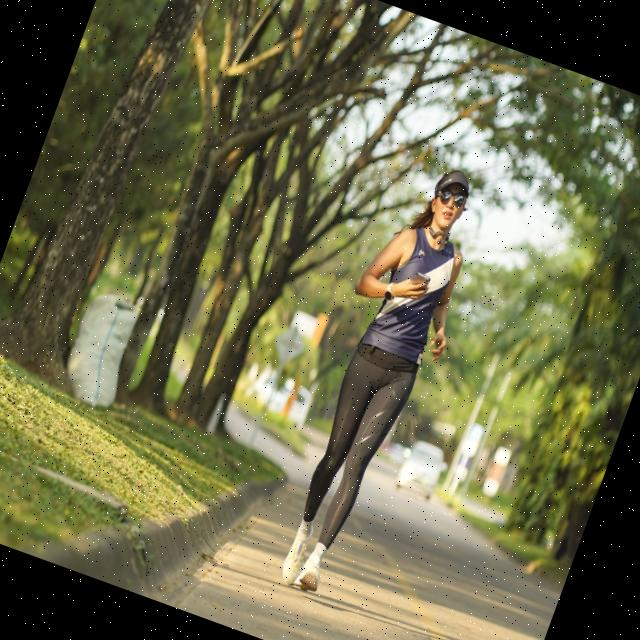Person: (248, 150, 502, 611)
